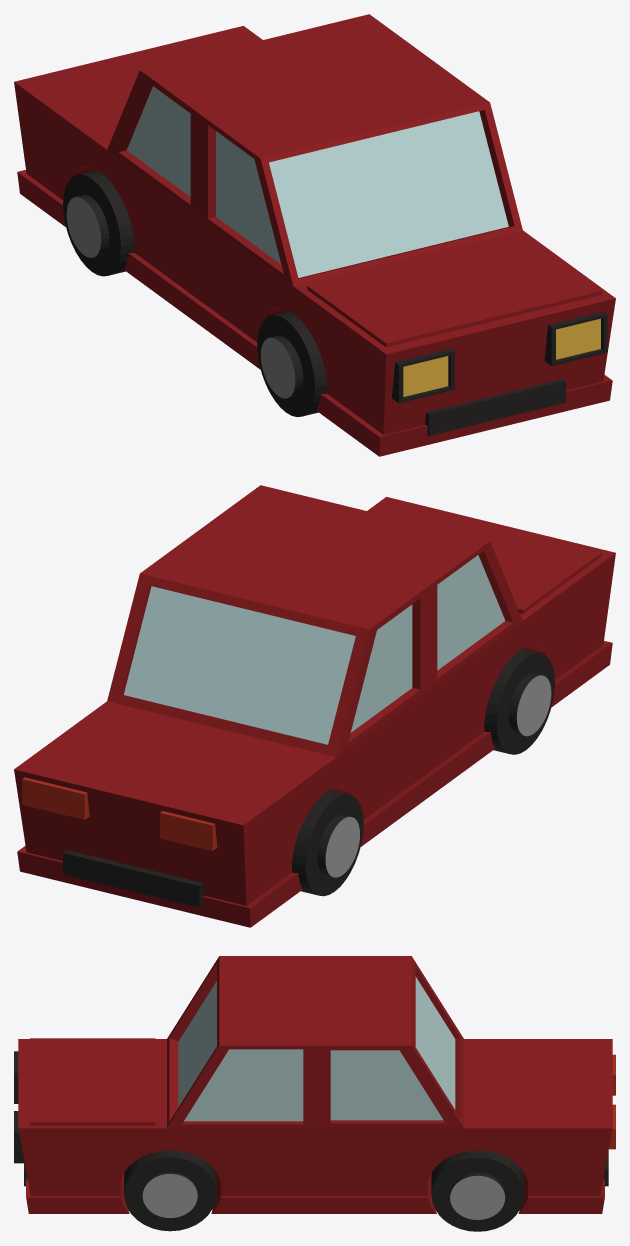
The model's file is Car Old.fbx.
The picture shows the model from 3 angles, top to bottom: view 1: azimuth 30°, elevation 25°; view 2: azimuth 150°, elevation 25°; view 3: azimuth 270°, elevation 25°; orthographic projection. The views are drawn at different scales.
Parts seen in each view (by area): view 1: Cube, Cylinder.001, Cylinder, Cube.004, Cube.003, Cube.002; view 2: Cube, Cylinder.001, Cylinder, Cube.005, Cube.006, Cube.007; view 3: Cube, Cylinder.001, Cylinder.
Boxes of the visible parts, x1,y1,x2,y2 form: Cube: (14, 14, 615, 456); Cylinder.001: (63, 170, 134, 276); Cylinder: (257, 311, 327, 417); Cube.004: (425, 379, 565, 435); Cube.003: (544, 311, 607, 365); Cube.002: (392, 348, 454, 403); Cube: (14, 485, 615, 927); Cylinder.001: (292, 790, 363, 896); Cylinder: (484, 648, 554, 754); Cube.005: (63, 850, 204, 907); Cube.006: (22, 777, 89, 819); Cube.007: (160, 811, 217, 850); Cube: (18, 956, 612, 1213); Cylinder.001: (431, 1150, 523, 1231); Cylinder: (124, 1150, 216, 1231).
Size of the model in its own units: 305 by 259 by 769.
